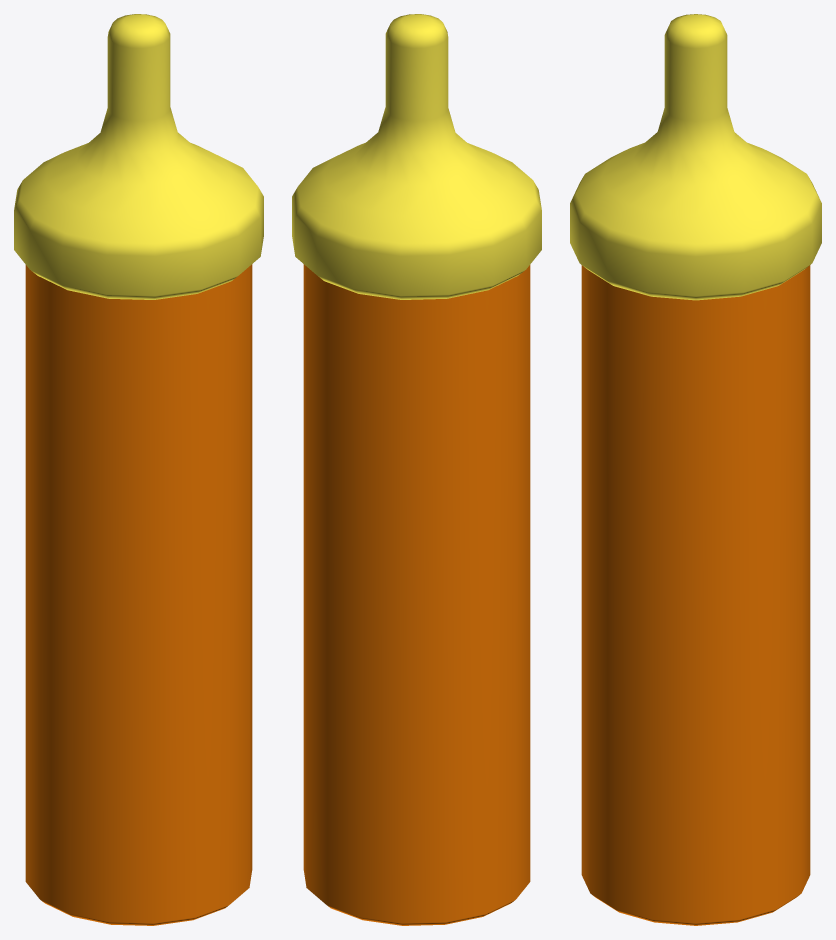
Rendered from Store_2_Ketchup_1.glb.
3 renders of one model, left to right at view 1: azimuth 30°, elevation 25°; view 2: azimuth 150°, elevation 25°; view 3: azimuth 270°, elevation 25°, orthographic.
Parts seen in each view (by area): view 1: Store_2_Ketchup_1; view 2: Store_2_Ketchup_1; view 3: Store_2_Ketchup_1.
Boxes of the visible parts, x1=… form: Store_2_Ketchup_1: x1=14, y1=14, x2=263, y2=925; Store_2_Ketchup_1: x1=292, y1=14, x2=541, y2=925; Store_2_Ketchup_1: x1=570, y1=14, x2=821, y2=925.
Bounding box in the file's own units: 0.1303 × 0.4898 × 0.1303.
1 material, 1 textured.
